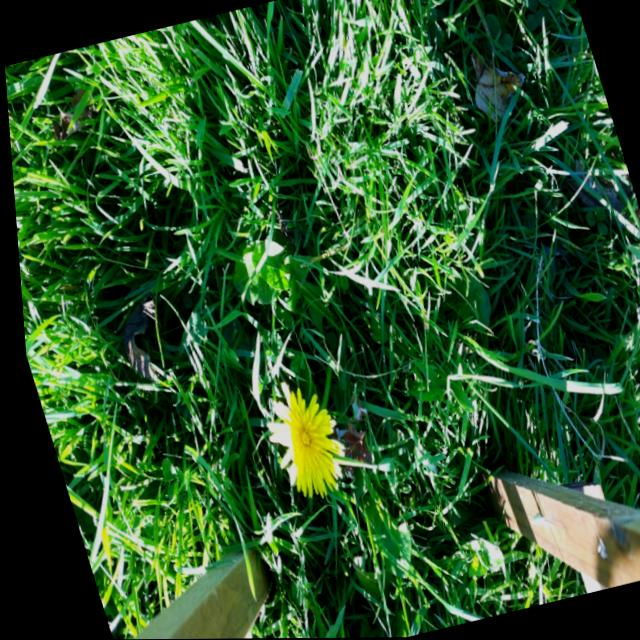base: (309, 348, 339, 388)
